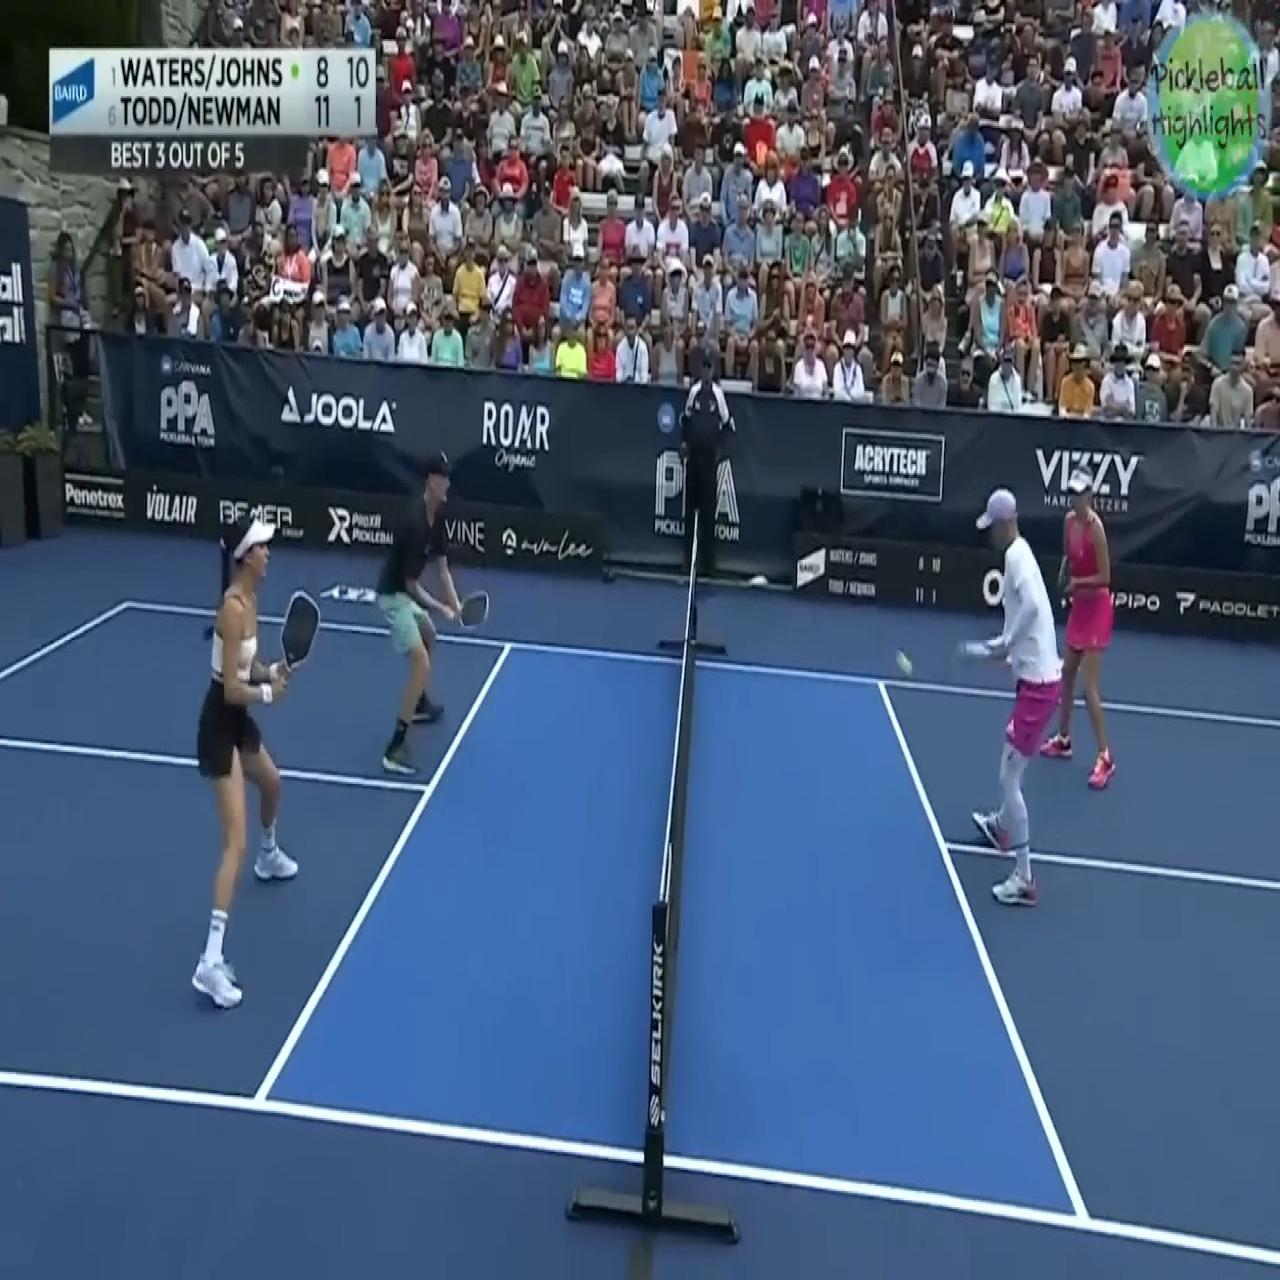Pickleball: (893, 644, 914, 679)
